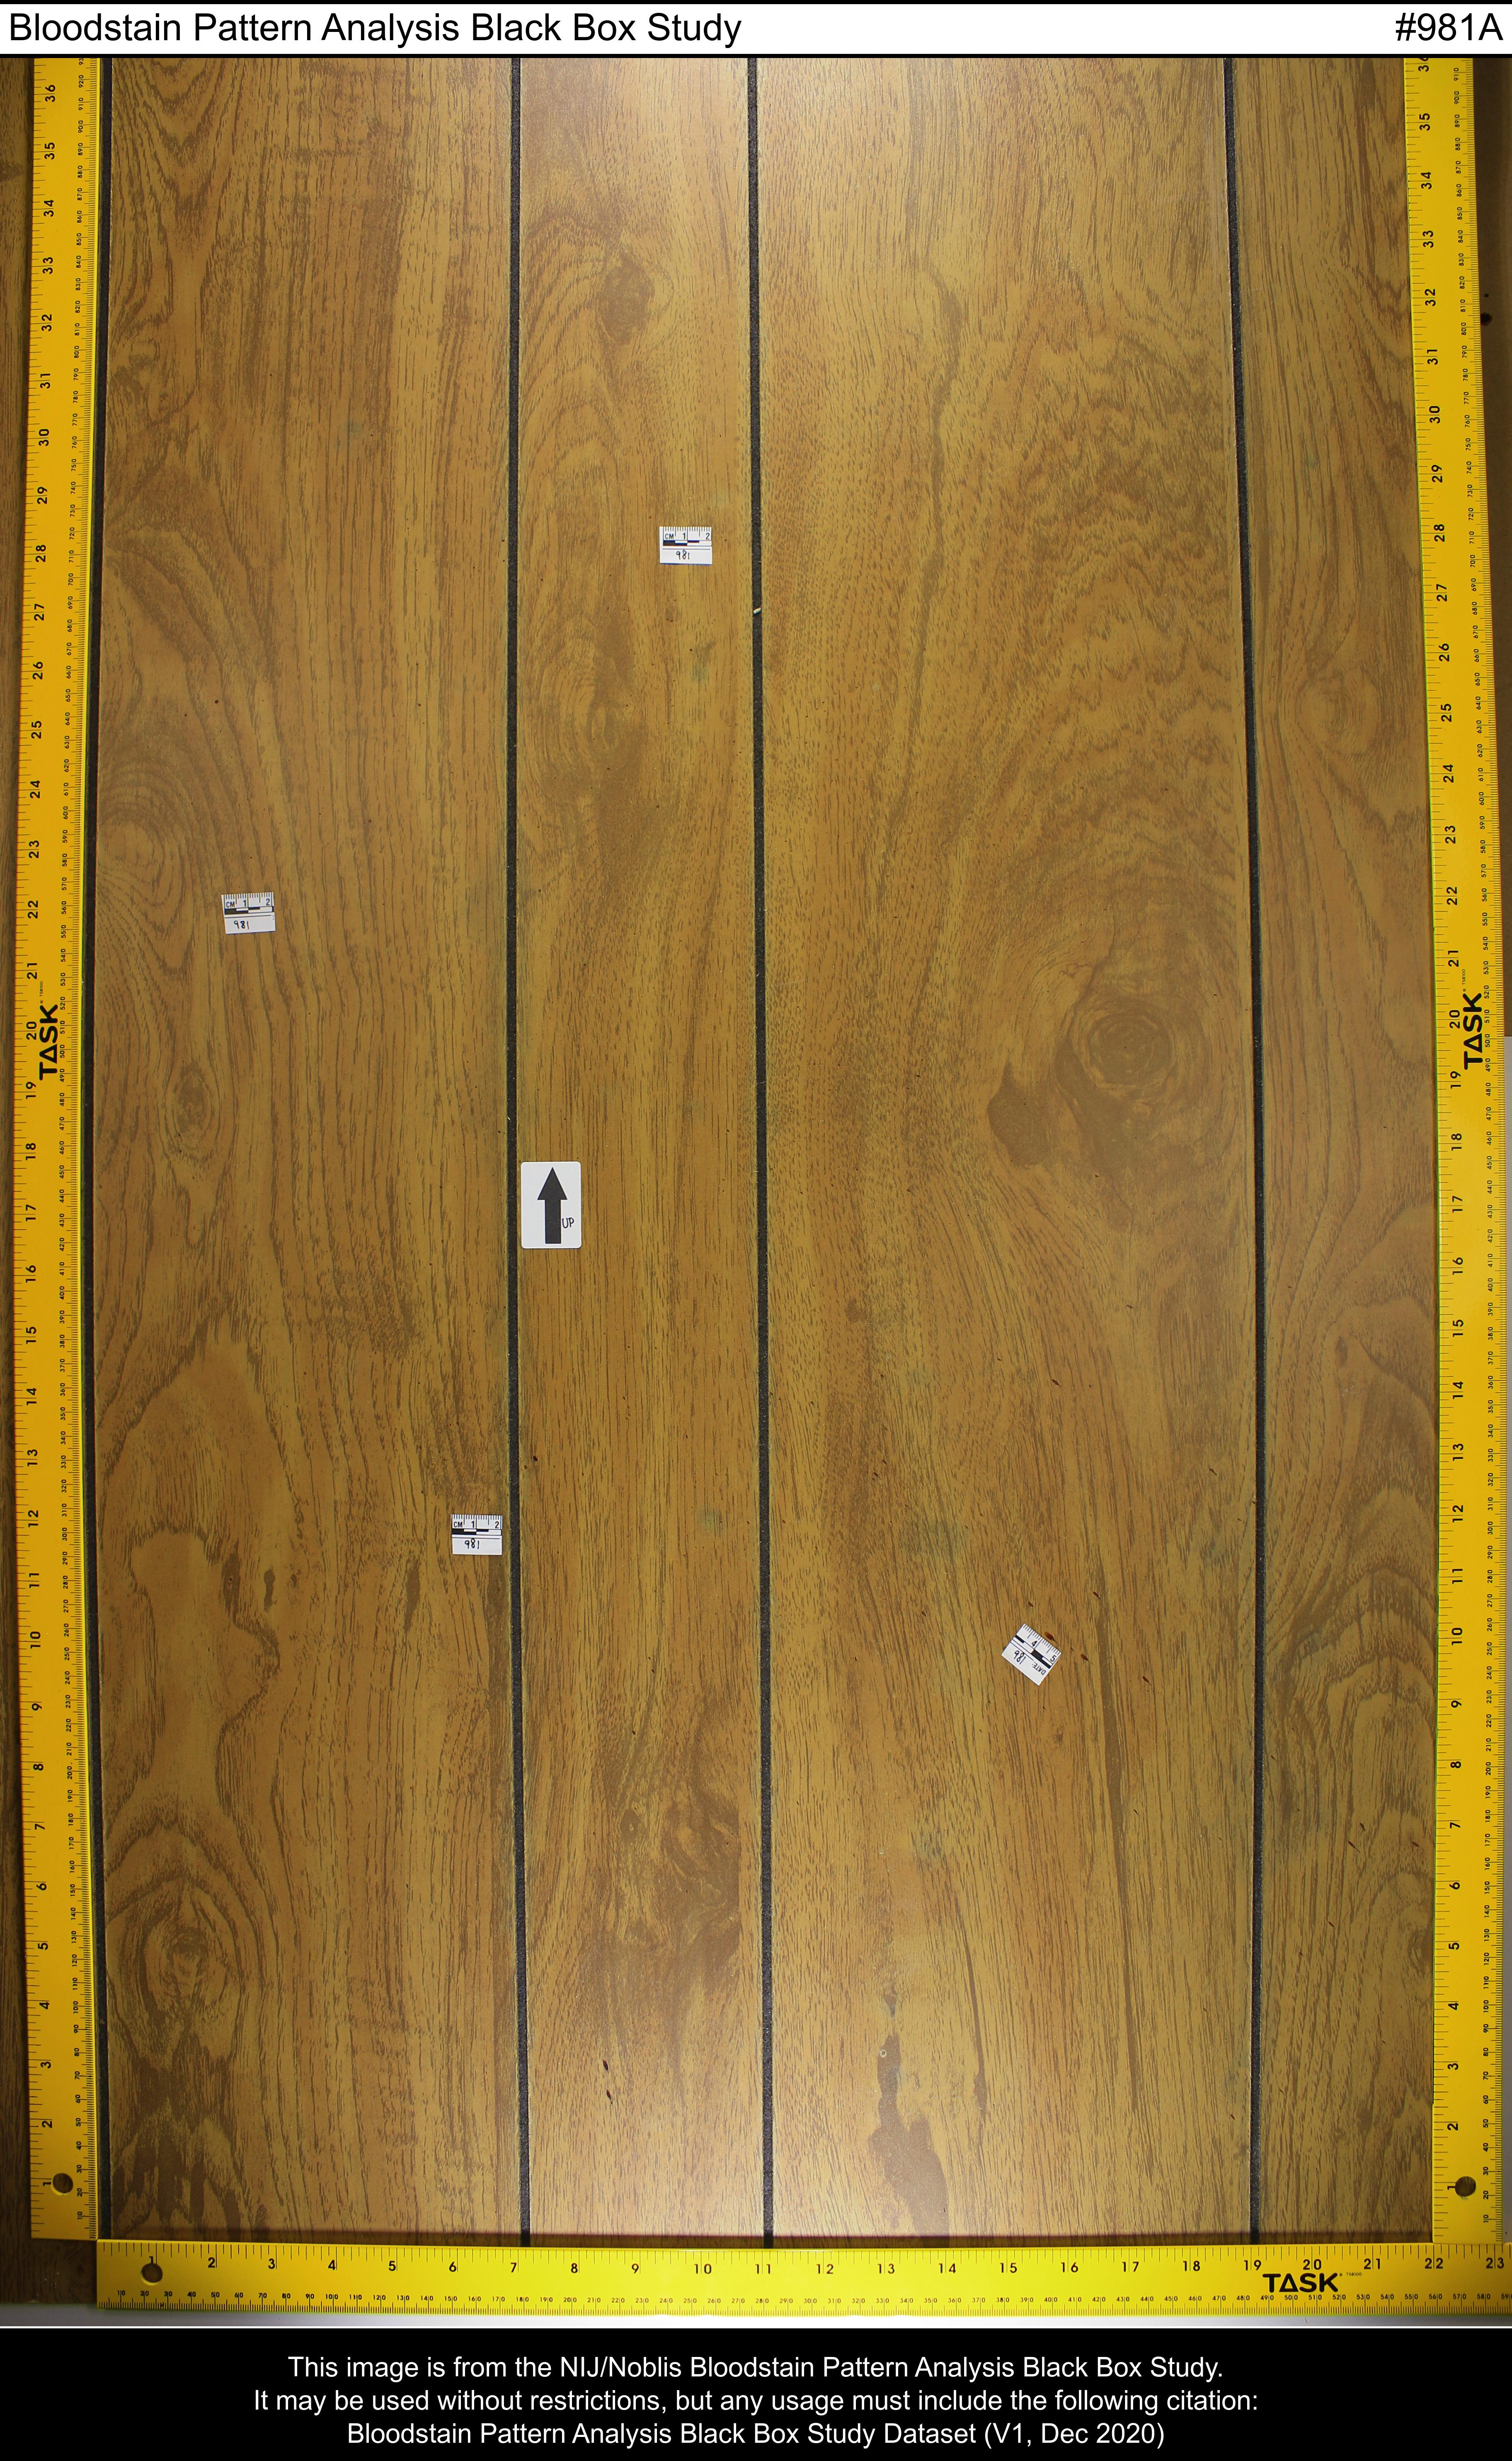Impact: (316, 1322, 1220, 1756)
